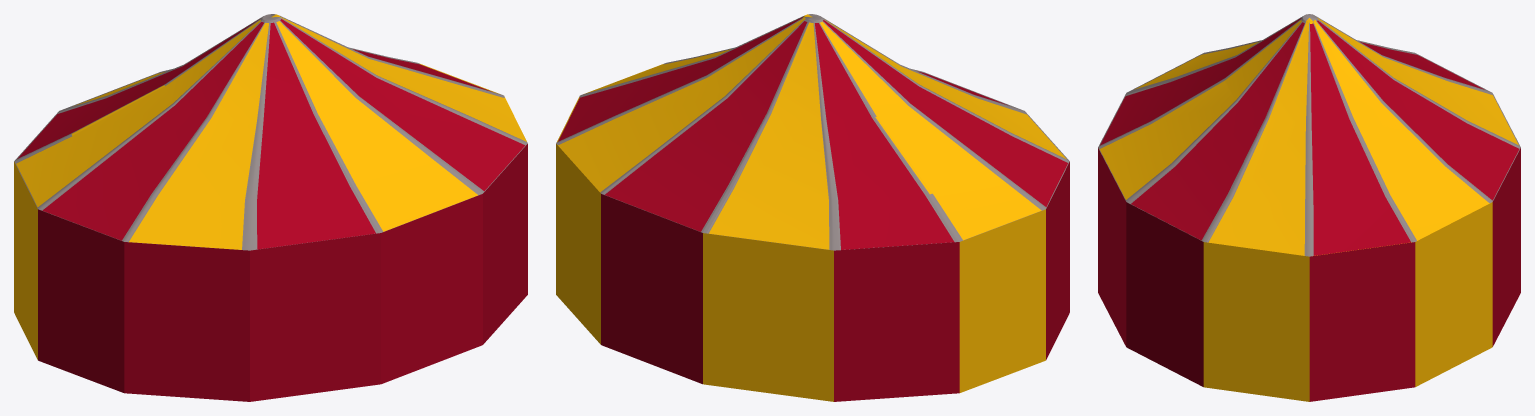
The model's file is circusScene.fbx.
The picture shows the model from 3 angles, left to right: view 1: azimuth 30°, elevation 25°; view 2: azimuth 150°, elevation 25°; view 3: azimuth 270°, elevation 25°; orthographic projection. The views are drawn at different scales.
Visible parts, largest first — view 1: polySurface2, polySurface1; view 2: polySurface2, polySurface1; view 3: polySurface2, polySurface1.
Boxes of the visible parts, bbox=[...] form: polySurface2: bbox=[14, 14, 527, 250]; polySurface1: bbox=[14, 144, 527, 401]; polySurface2: bbox=[556, 14, 1069, 250]; polySurface1: bbox=[556, 144, 1069, 401]; polySurface2: bbox=[1098, 14, 1520, 256]; polySurface1: bbox=[1098, 148, 1520, 401].
Bounding box in the file's own units: 906 × 537 × 742.
